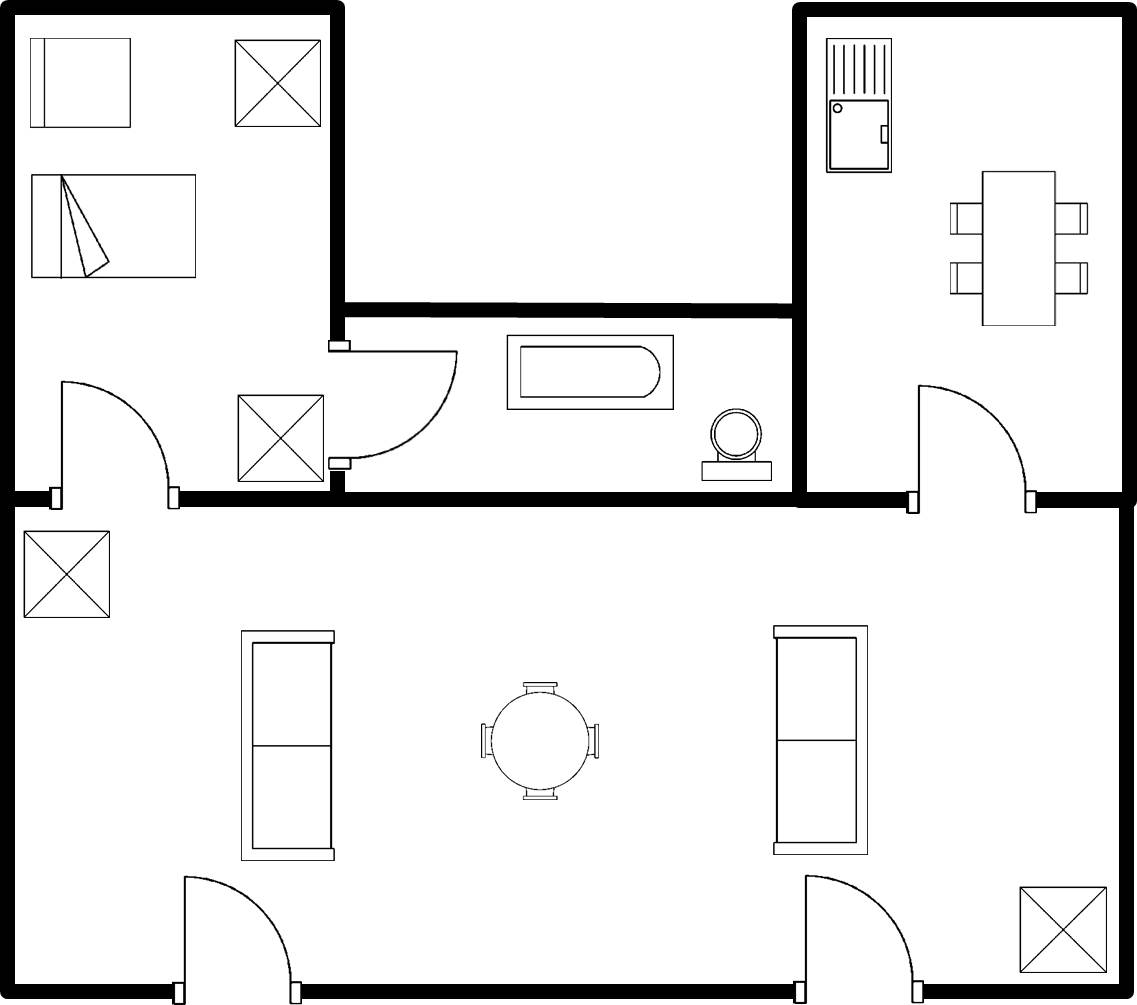bed: (23, 166, 203, 287)
coffee_table: (226, 32, 326, 133), (1012, 880, 1114, 979), (231, 391, 330, 484), (20, 527, 116, 621)
dining_table: (942, 164, 1096, 333)
large_sink: (695, 404, 781, 485)
large_sofa: (229, 620, 340, 871), (764, 617, 875, 867)
round_table: (470, 672, 613, 808)
sink: (819, 30, 901, 179)
small_sofa: (23, 32, 138, 134)
tub: (500, 329, 680, 417)
